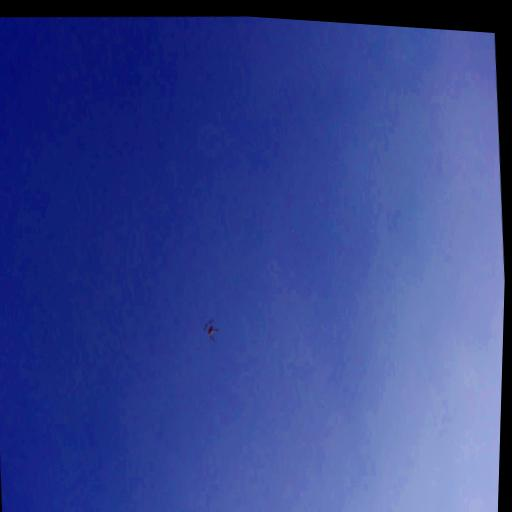drones: (201, 317, 221, 344)
